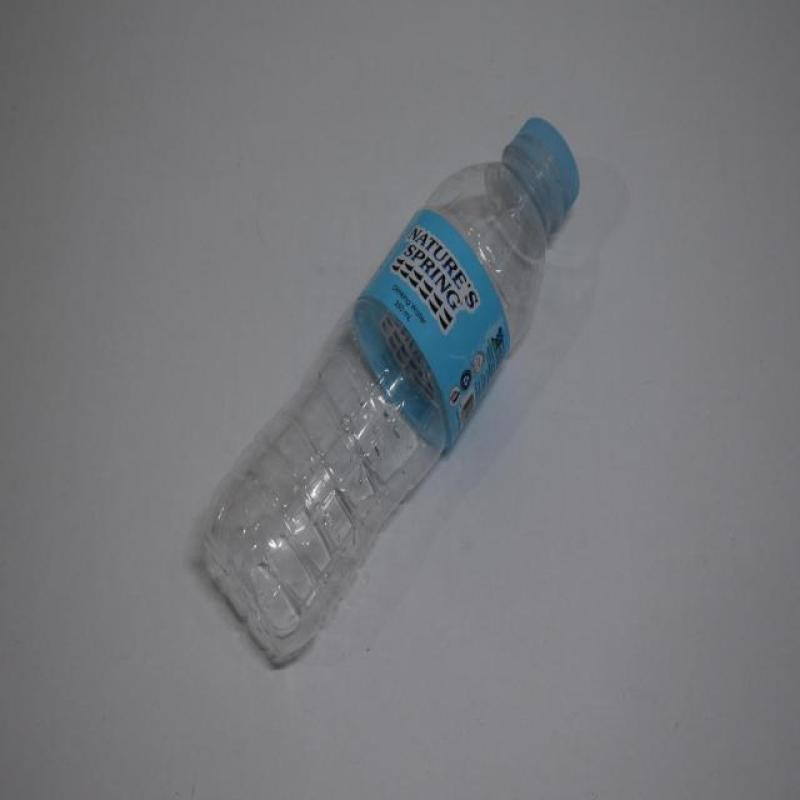botella: (198, 116, 582, 668)
